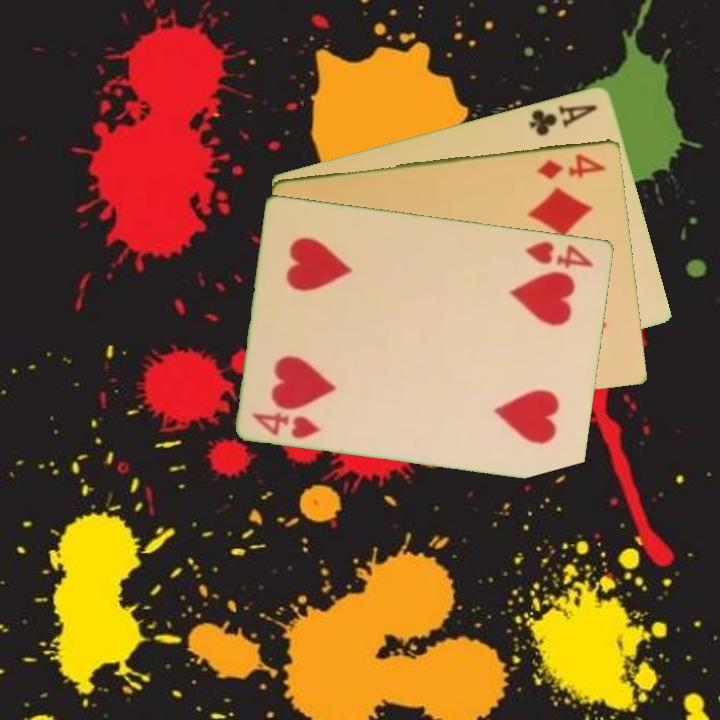4d: (532, 150, 609, 182)
4h: (522, 237, 597, 271), (249, 408, 323, 441)
Ac: (526, 100, 600, 139)
